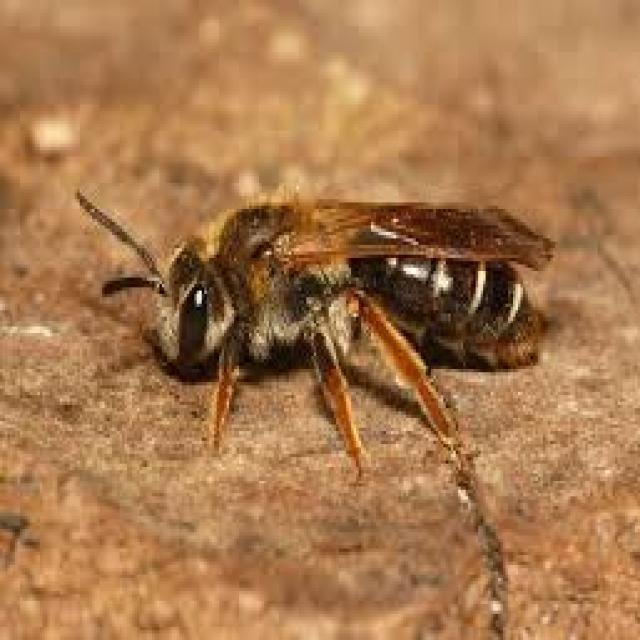Bees: (71, 180, 555, 472)
